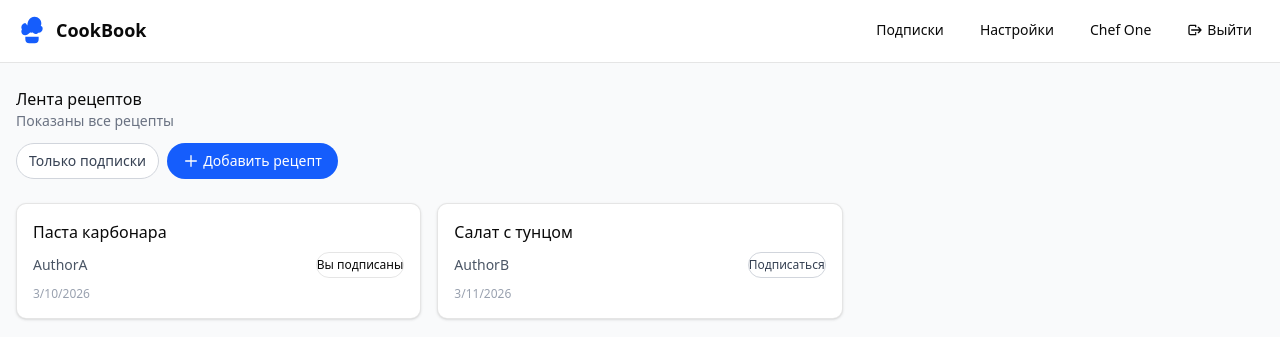
App integration › restores authorized user from localStorage and filters by subscriptions
Expected: the heading "Паста карбонара" is shown, [33,221,167,243]
Step 1. Click the button "Только подписки" → (88, 161), box [16,143,159,179]
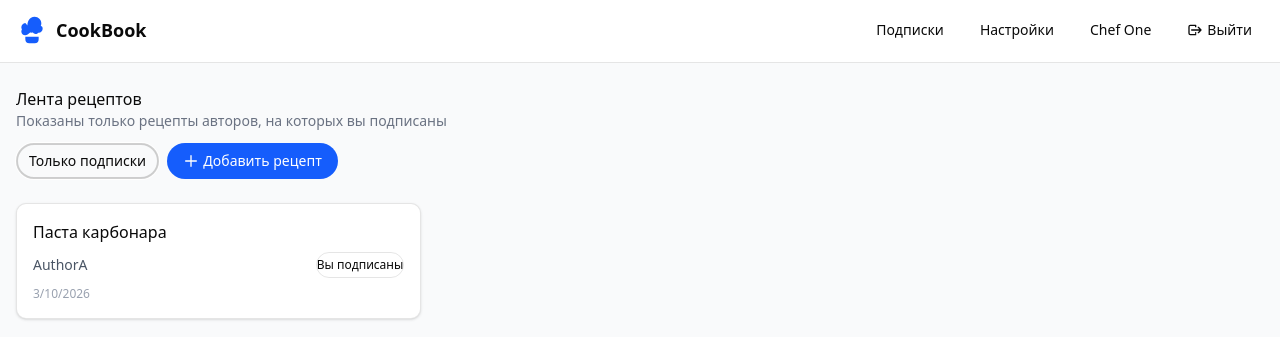
Expected: the heading "Паста карбонара" is shown, [33,221,167,243]
Expected: the heading "Салат с тунцом" is gone
